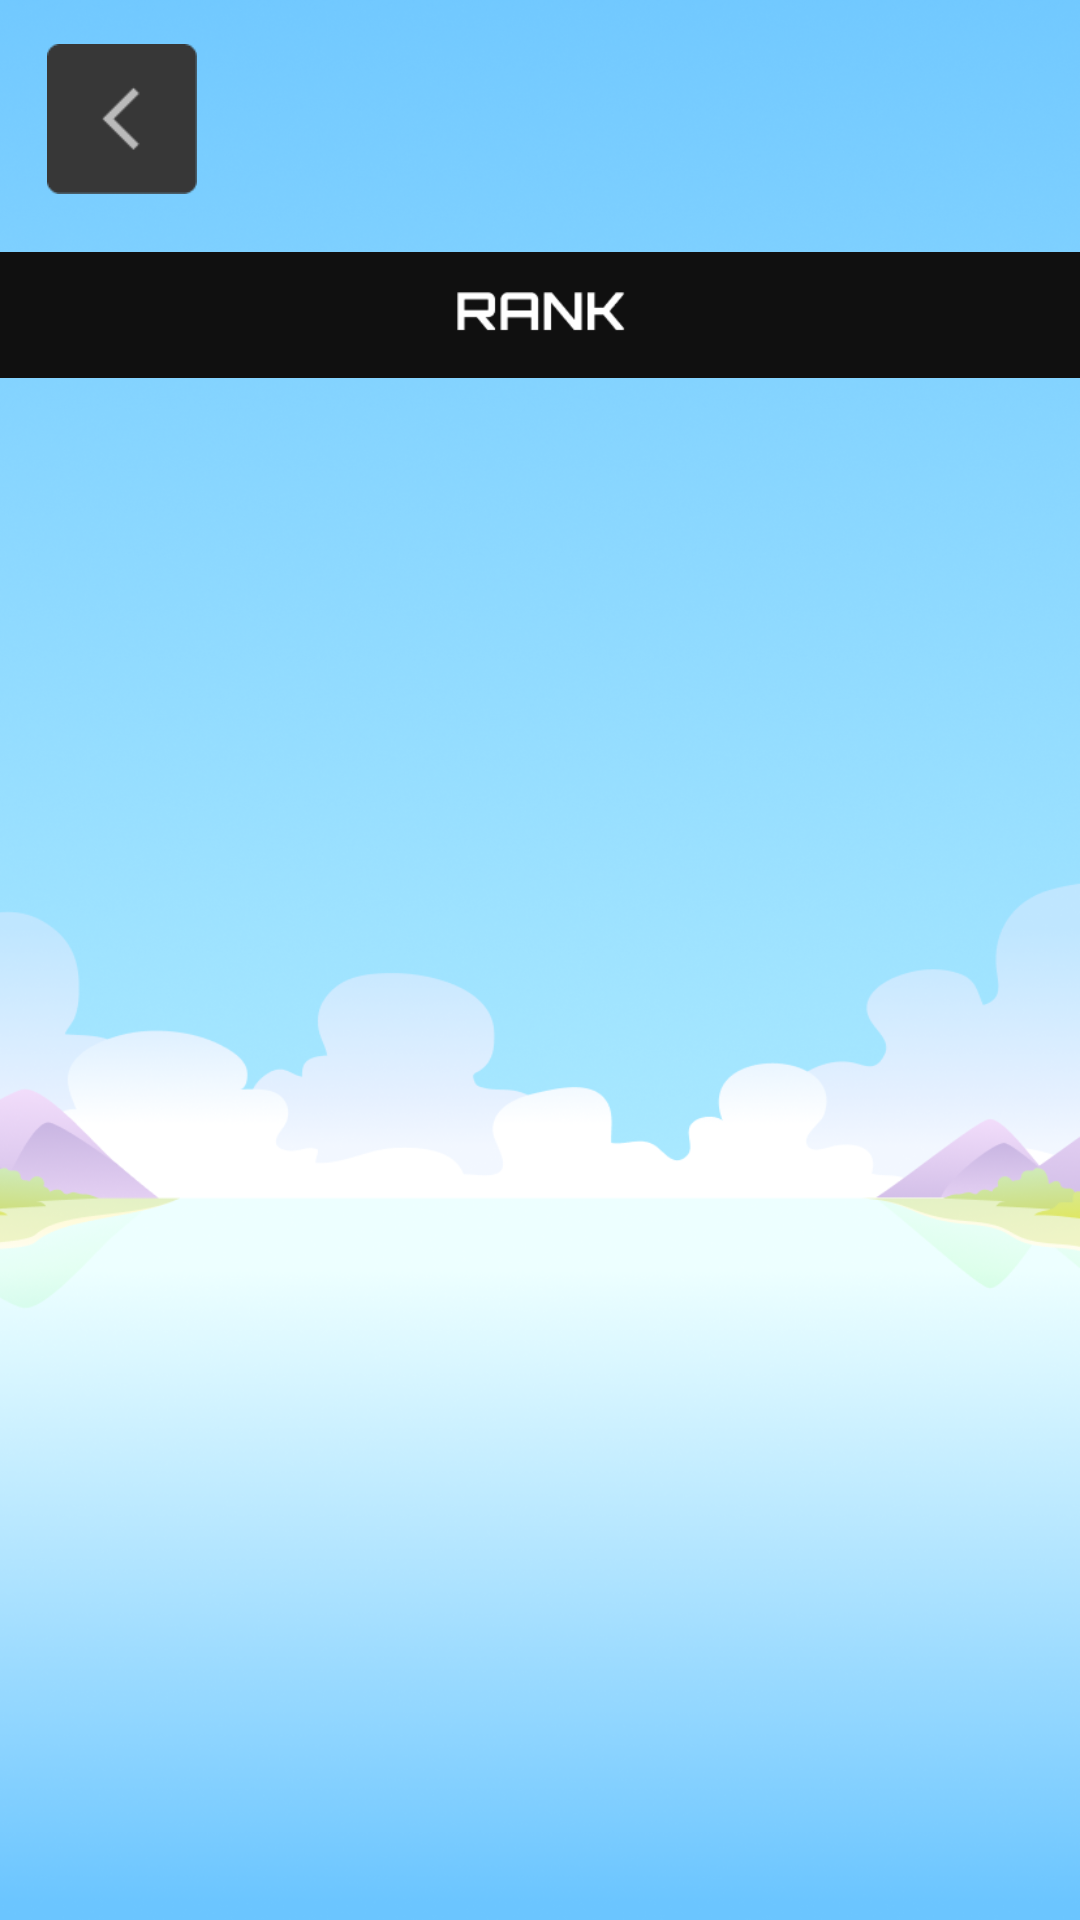

Screen size 1080w x 1920h. Icon name, then its center in pixels as (x,y):
back: (122,119)
